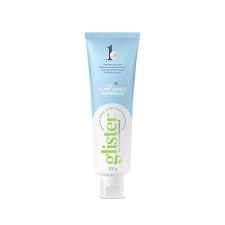toothpaste: (83, 27, 143, 202)
